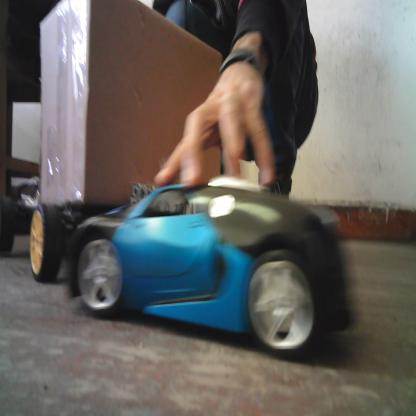LeadTruck: (31, 2, 225, 286)
